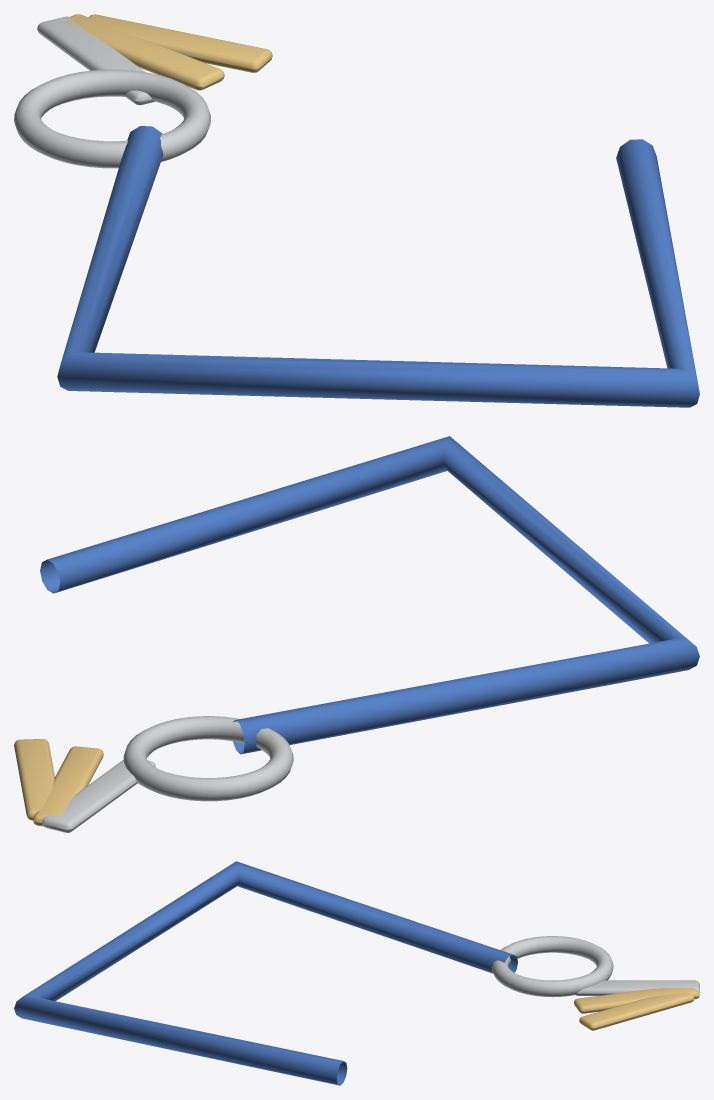
The model's file is keys.glb.
The picture shows the model from 3 angles, top to bottom: view 1: azimuth 30°, elevation 25°; view 2: azimuth 150°, elevation 25°; view 3: azimuth 270°, elevation 25°; orthographic projection. The views are drawn at different scales.
Parts seen in each view (by area): view 1: lanyard, ring, key2, key1, key0; view 2: lanyard, ring, key0, key1, key2; view 3: lanyard, ring, key2, key1, key0.
Part boxes in pixels (x1,y1,x2,y2): lanyard: (57,126,699,407); ring: (14,69,210,168); key2: (84,14,272,72); key1: (62,14,224,90); key0: (37,16,154,105); lanyard: (40,436,699,754); ring: (123,716,293,801); key0: (42,760,155,832); key1: (33,746,103,826); key2: (14,739,54,820); lanyard: (14,861,517,1085); ring: (491,936,613,997); key2: (579,992,694,1030); key1: (574,988,699,1013); key0: (575,980,699,995).
Size of the model in its own units: 0.2314 by 0.0134 by 0.3258.
